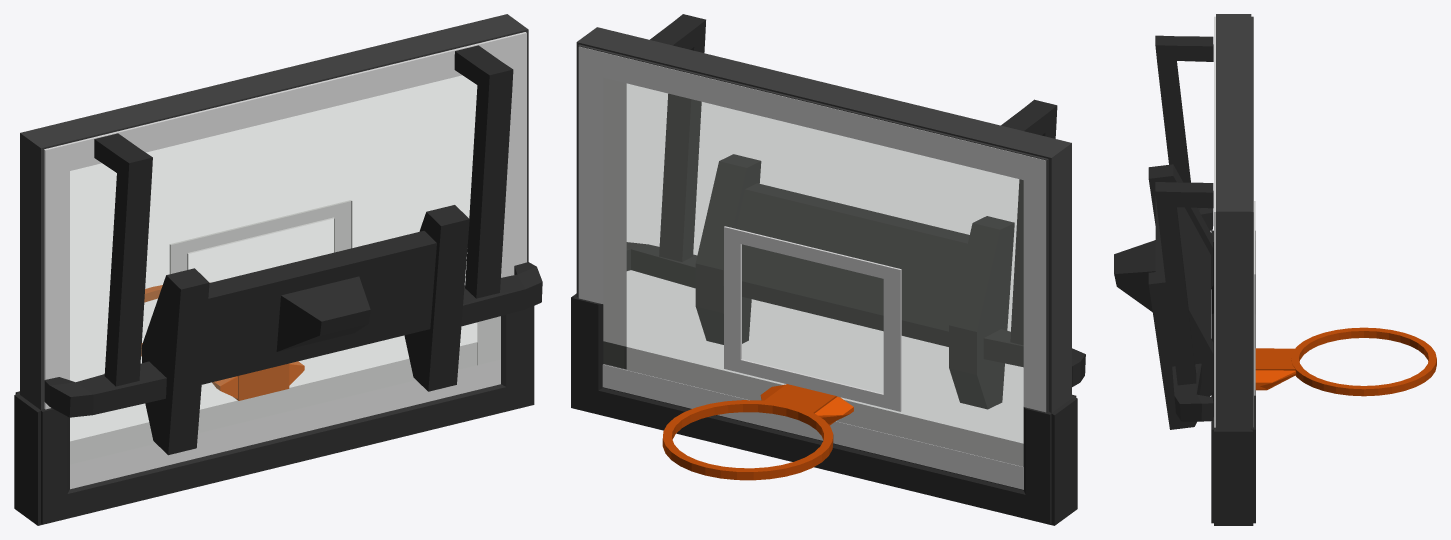
Rendered from HoopandBackboard2.fbx.
The picture shows the model from 3 angles, left to right: view 1: azimuth 30°, elevation 25°; view 2: azimuth 150°, elevation 25°; view 3: azimuth 270°, elevation 25°; orthographic projection. The views are drawn at different scales.
Parts seen in each view (by area): view 1: Baseboard; view 2: Baseboard; view 3: Baseboard.
Boxes of the visible parts, x1,y1,x2,y2 form: Baseboard: (14,14,542,525); Baseboard: (571,14,1085,525); Baseboard: (1114,14,1436,525).
Bounding box in the file's own units: 409 × 296 × 277.
